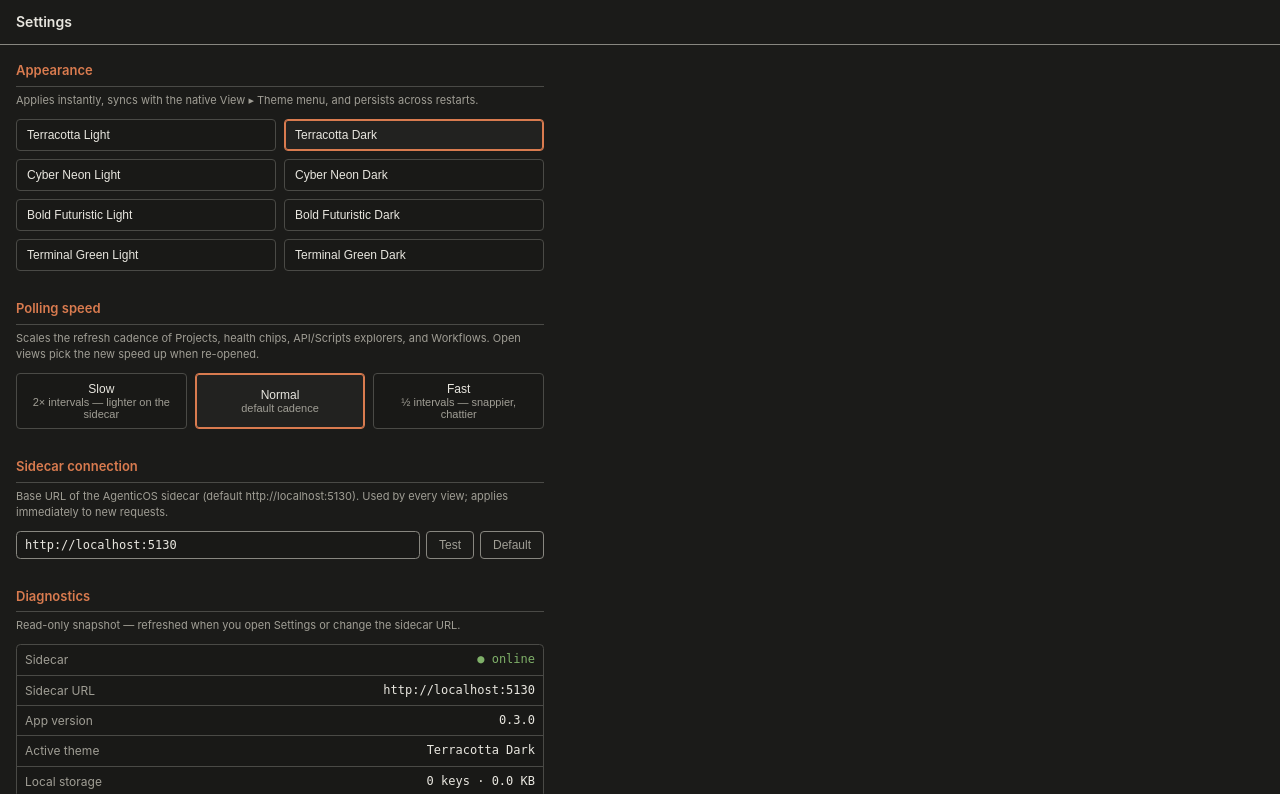
it: SettingsView Integration › should test the connection against the entered URL
Replace the text in the field with test id "sidecar-url-input" with "http://devbox:6001" at x=218, y=544, box [16,530,420,558]
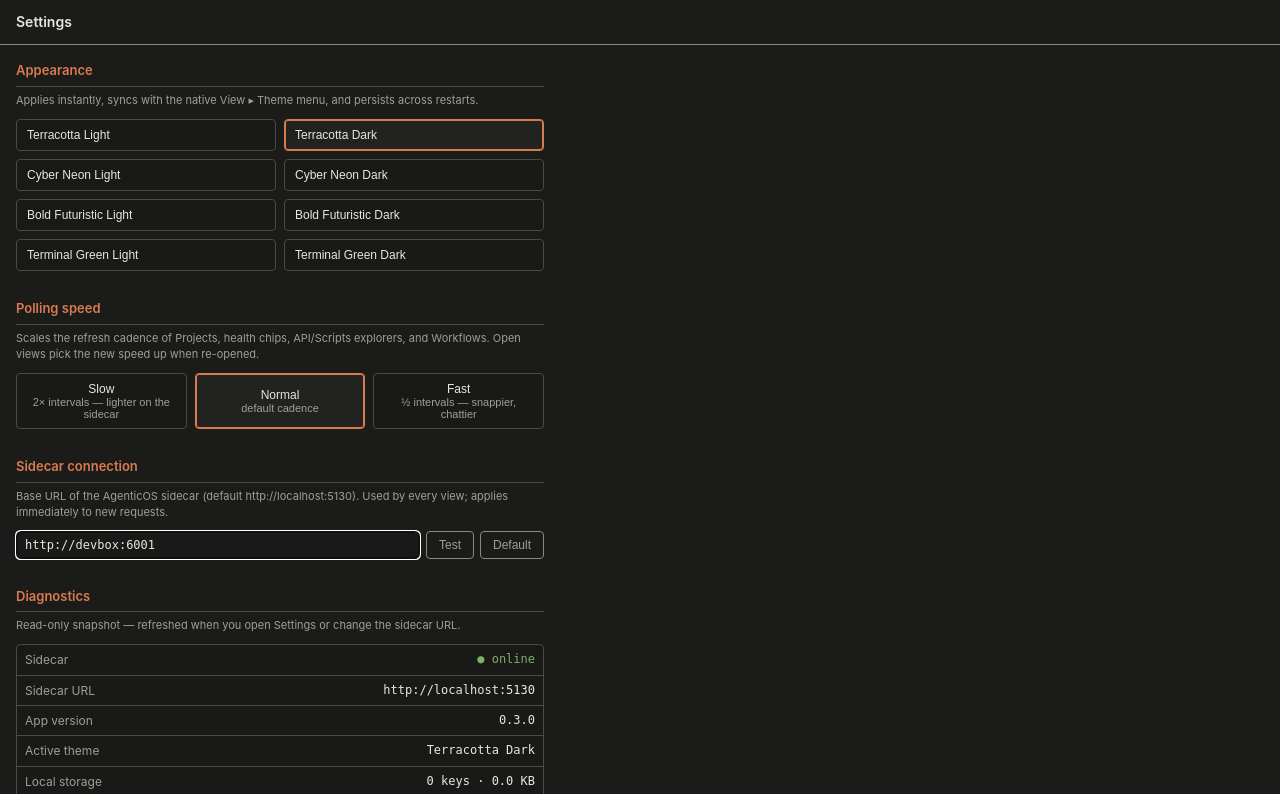
Click the button with test id "test-connection" at x=450, y=544, box [426,530,474,558]
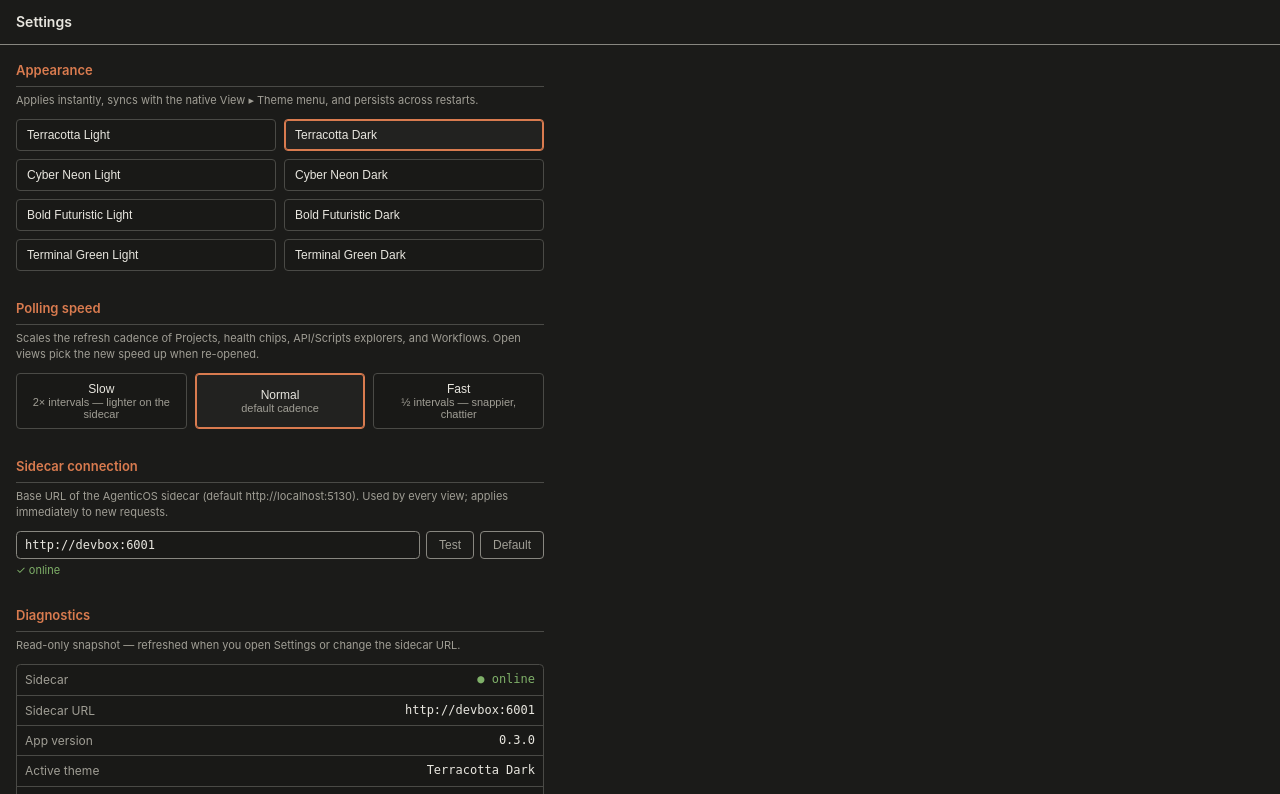
Result: the text with test id "test-result" shows "online" at [29,562,60,576]
